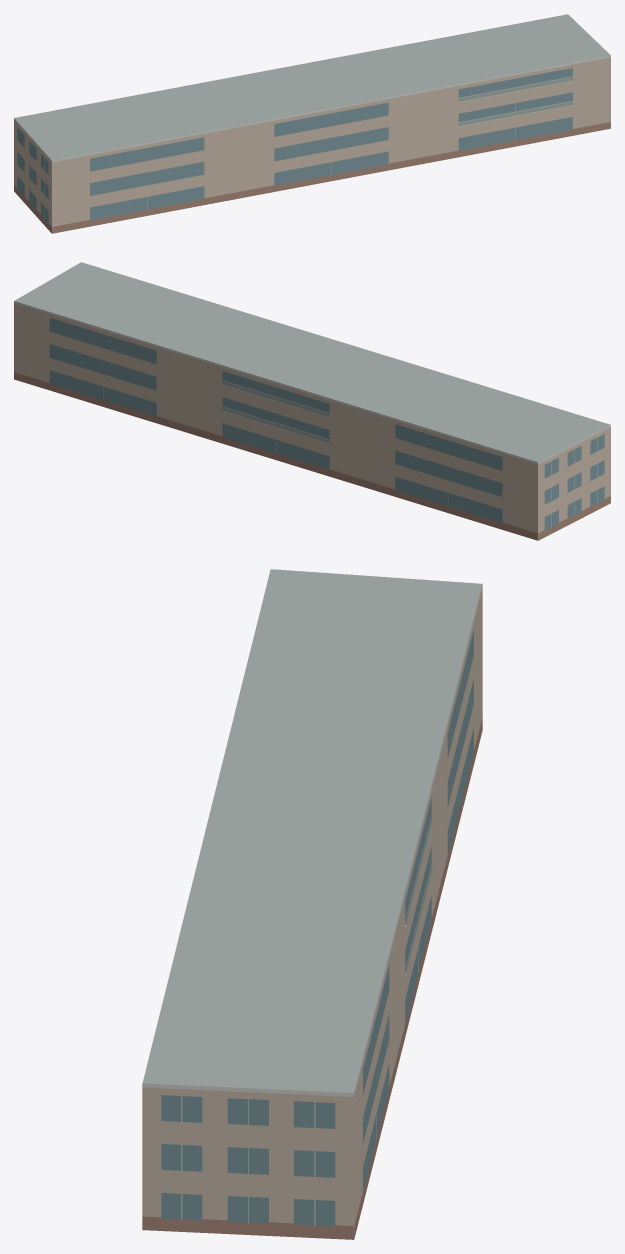
The model's file is survey-upis-32908380.glb.
The picture shows the model from 3 angles, top to bottom: view 1: azimuth 30°, elevation 25°; view 2: azimuth 150°, elevation 25°; view 3: azimuth 270°, elevation 25°; orthographic projection. The views are drawn at different scales.
Parts seen in each view (by area): view 1: survey-upis-32908380.tmp; view 2: survey-upis-32908380.tmp; view 3: survey-upis-32908380.tmp.
Boxes of the visible parts, bbox=[...] form: survey-upis-32908380.tmp: bbox=[14, 14, 610, 233]; survey-upis-32908380.tmp: bbox=[14, 262, 610, 540]; survey-upis-32908380.tmp: bbox=[142, 569, 482, 1239].
Size of the model in its own units: 70.11 by 9.15 by 19.24.
